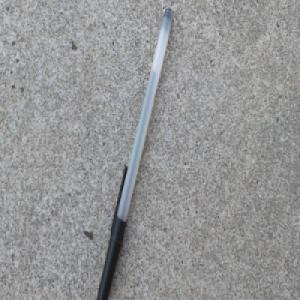Pen: (97, 5, 175, 300)
